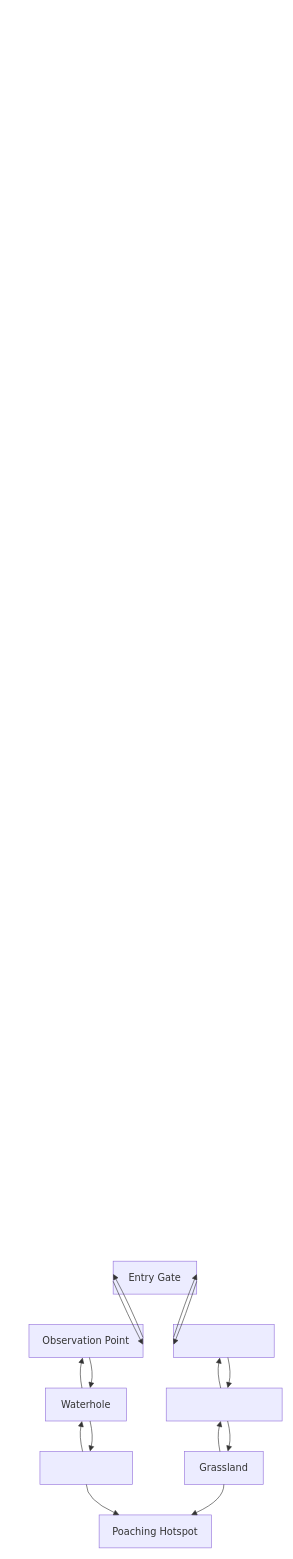
Image size: 293x1559. Some labels were removed from this diagram. Here are the shapes that lost their labels. From the top down, the box of each, then its label:
(173, 1324, 274, 1358): Ranger Station
(166, 1387, 282, 1421): Camera Trap Zone
(39, 1451, 133, 1484): Dense Forest
